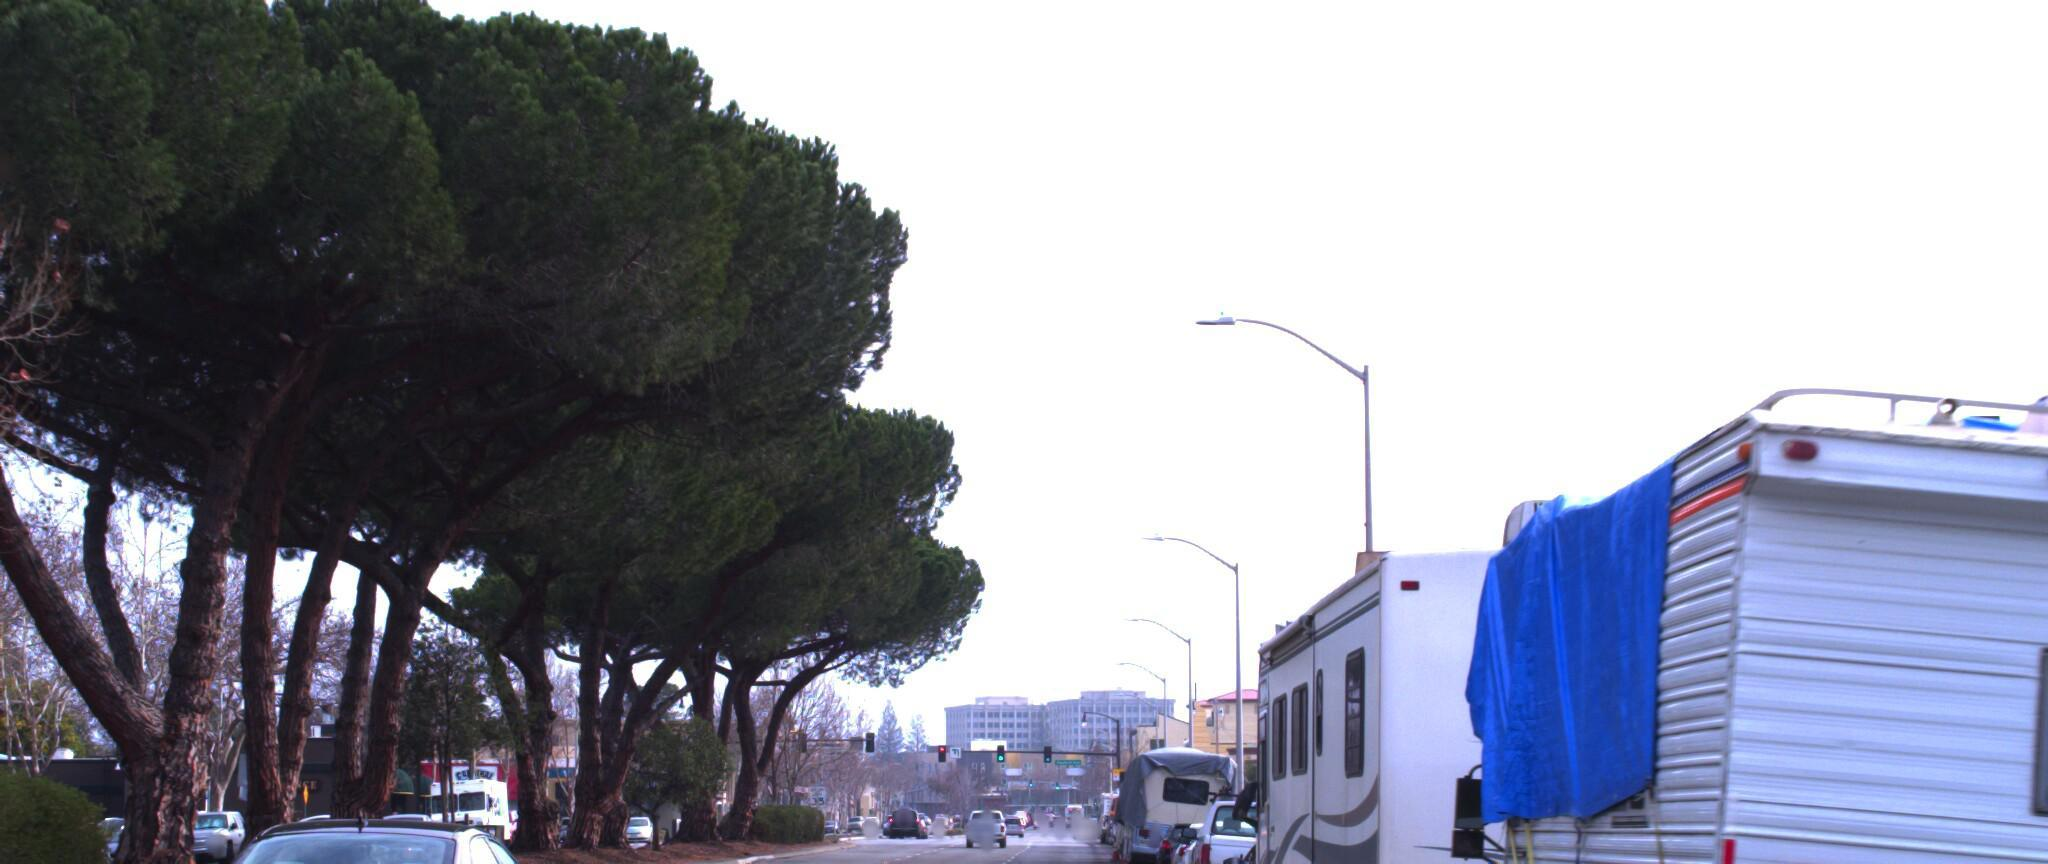car: (135, 787, 589, 864), (1186, 760, 1337, 864), (1209, 803, 1415, 864), (1829, 861, 2048, 864)
other_vehicle: (1420, 322, 2048, 864), (1238, 442, 1870, 864), (1118, 730, 1237, 864)
